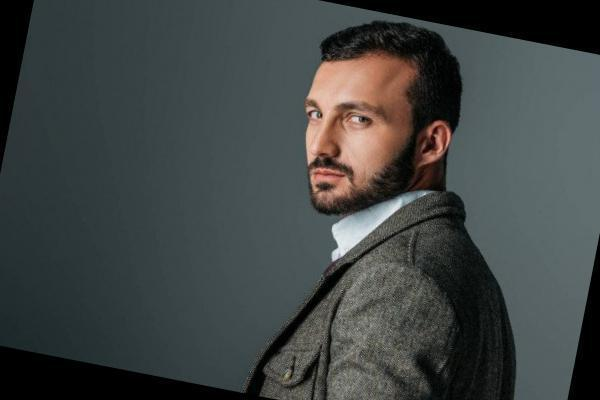Sober: (307, 72, 414, 201)
